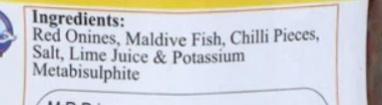ingredients: (24, 4, 342, 88)
